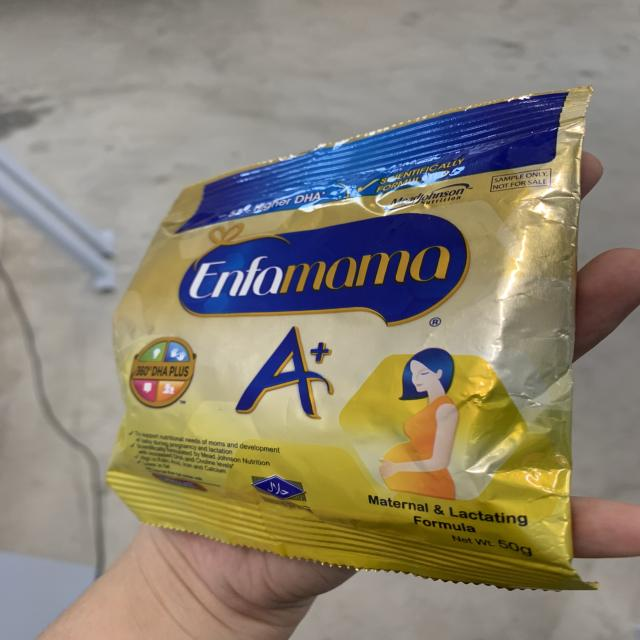object_name: (118, 168, 560, 542)
